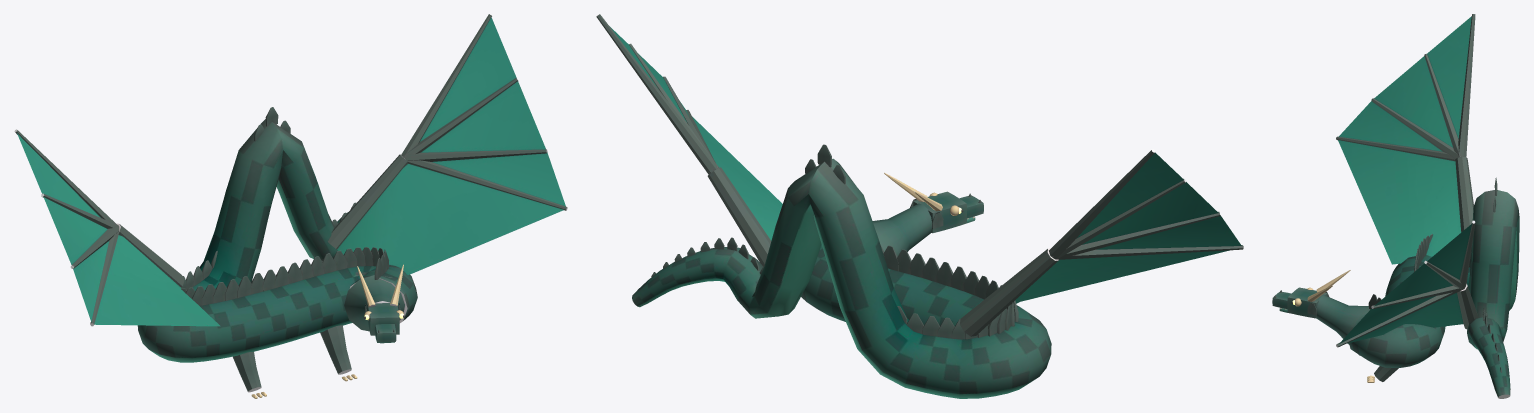
The model's file is dragon_big.glb.
The picture shows the model from 3 angles, left to right: view 1: azimuth 30°, elevation 25°; view 2: azimuth 150°, elevation 25°; view 3: azimuth 270°, elevation 25°; orthographic projection. The views are drawn at different scales.
Visible parts, largest first — view 1: main; view 2: main; view 3: main.
Part boxes in pixels (left/top/right/bottom): main: left=14, top=14, right=567, bottom=398; main: left=596, top=14, right=1243, bottom=398; main: left=1272, top=14, right=1519, bottom=398.
Bounding box in the file's own units: 122 × 67.55 × 61.23.
2 materials, 1 textured.
